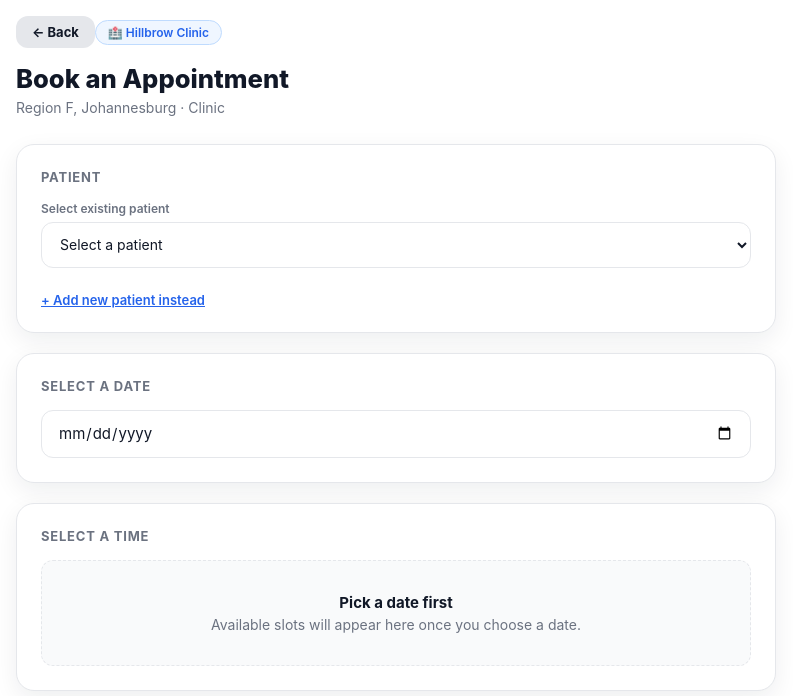
it: BookingPage › loads future slots after selecting a date
In the date field named "Appointment date": (396, 434) [41,410,751,458], type "2099-05-10"
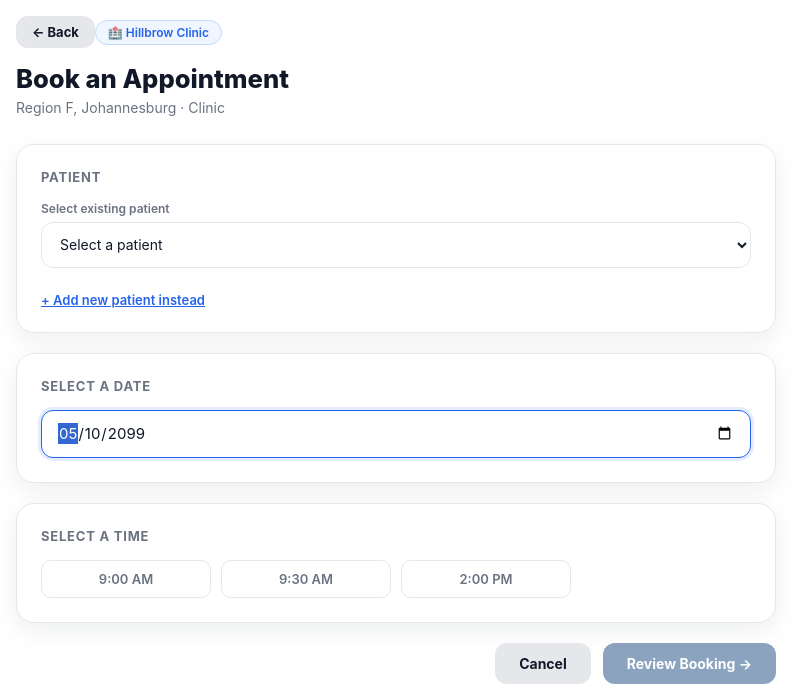
Result: the button "9:00 AM" is shown at [41,560,211,598]
Result: the button "9:30 AM" is shown at [221,560,391,598]
Result: the button "2:00 PM" is shown at [401,560,571,598]
